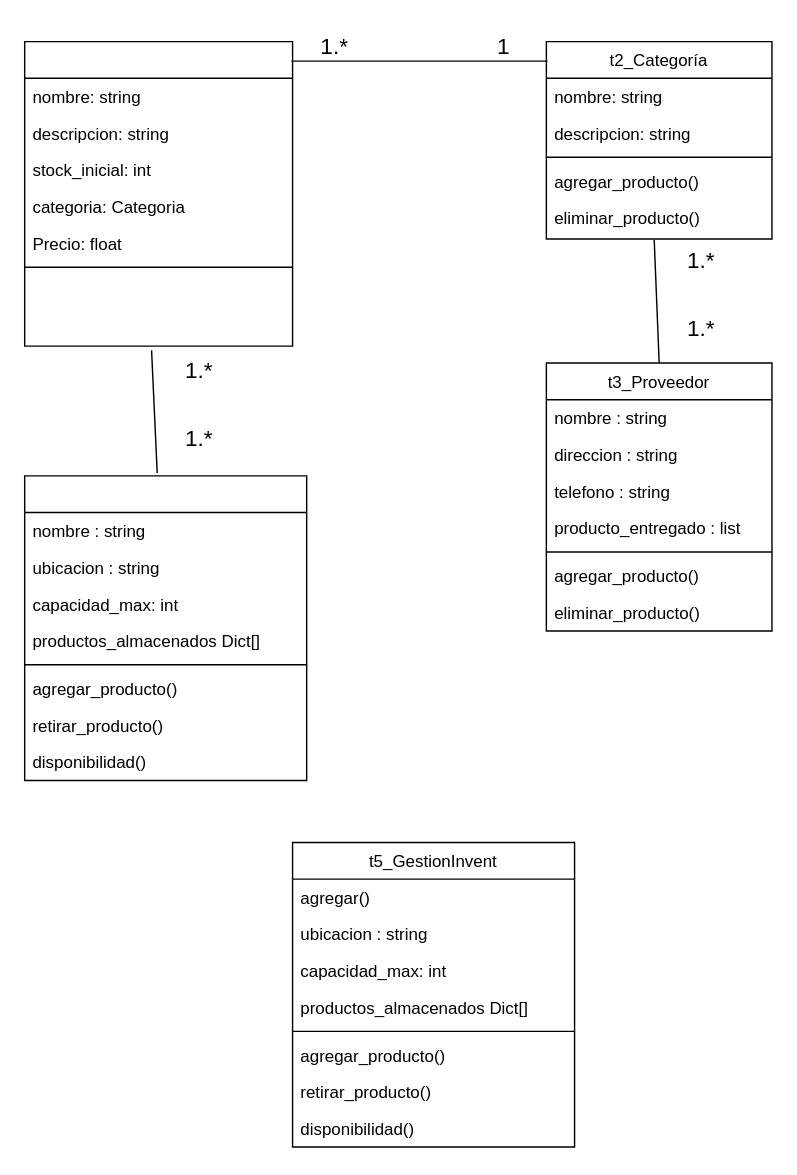
Some shapes in this 797 by 1175 pixel diagram are drawn without their labels. Each missing label, with the box of its shape:
t1_Producto: (23, 40, 293, 346)
t4_Bodega: (23, 474, 307, 780)
